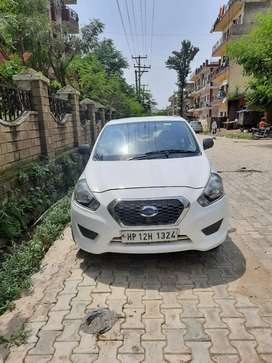HP12H1324: (121, 230, 178, 242)
